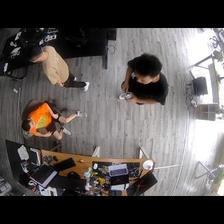normal: (26, 44, 88, 91), (119, 54, 170, 108), (20, 103, 87, 141)
